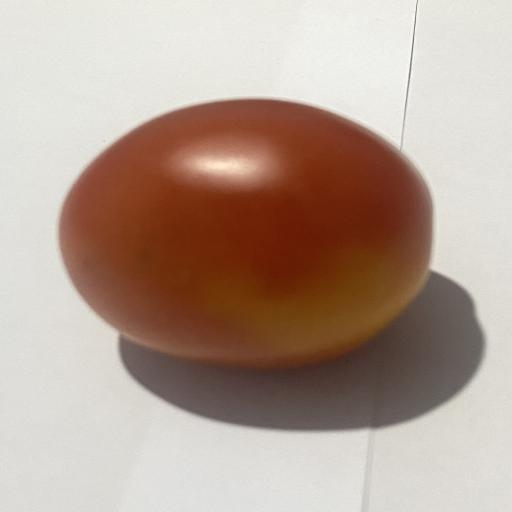ripe: (59, 99, 432, 367)
